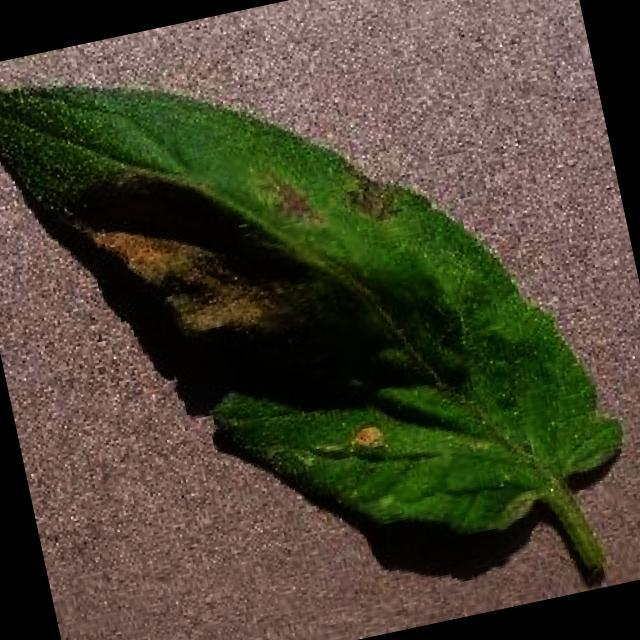Tomato late blight leaf: (0, 0, 634, 616)
